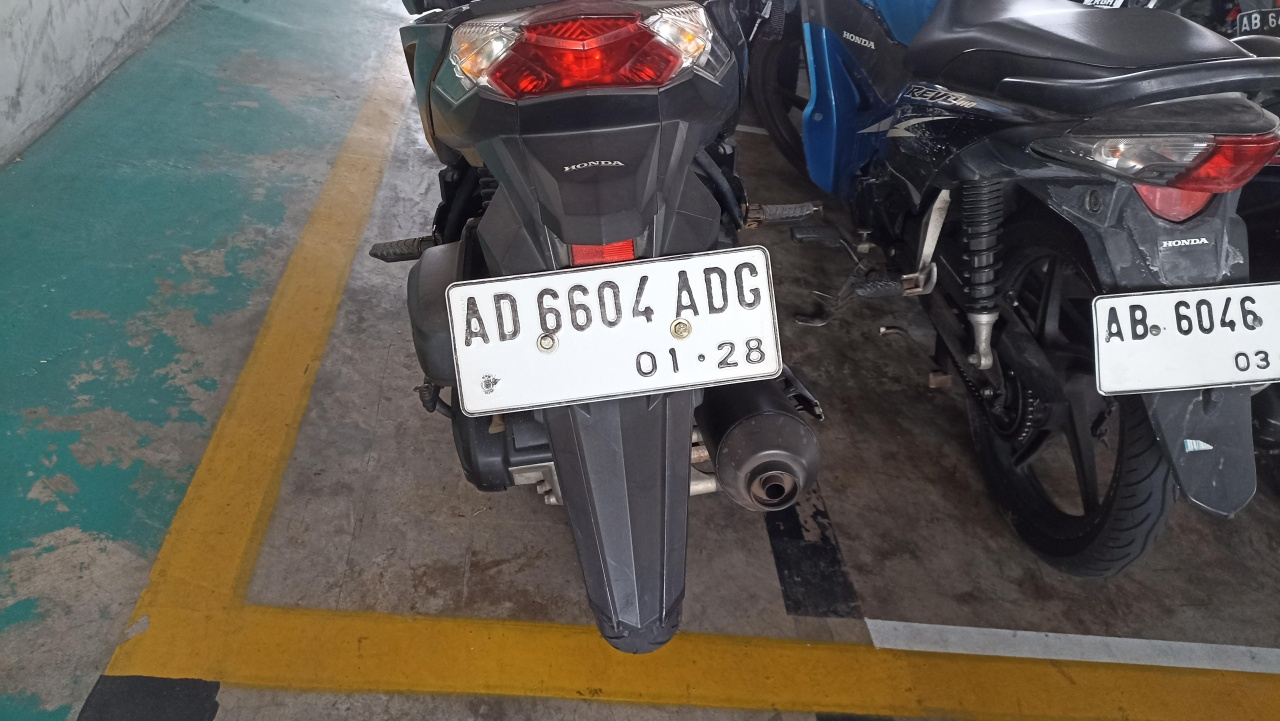plate: (446, 248, 785, 421)
